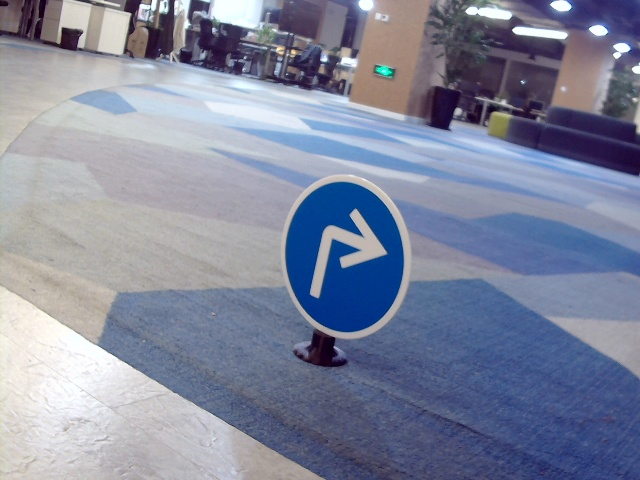turn_right: (309, 201, 383, 311)
